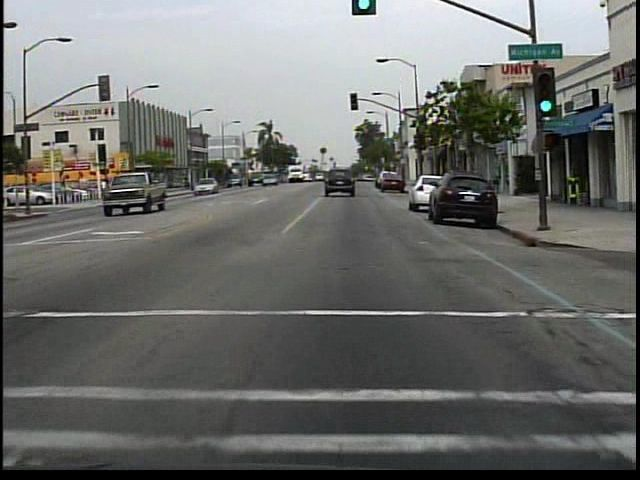person: (103, 177, 111, 202)
